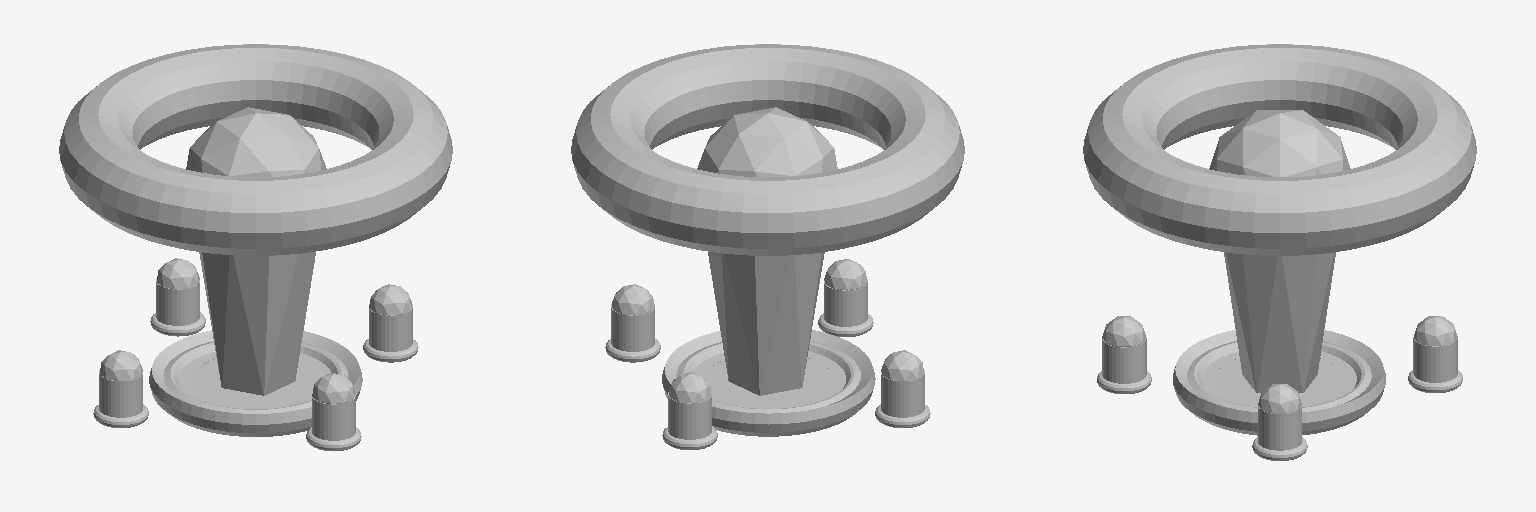
Rendered from altar1.obj.
The picture shows the model from 3 angles: view 1: azimuth 30°, elevation 25°; view 2: azimuth 150°, elevation 25°; view 3: azimuth 270°, elevation 25°; orthographic projection.
Visible parts, largest first — view 1: Torus.005, Icosphere_Icosphere.002, Torus, Icosphere.002_Icosphere.004, Icosphere.001_Icosphere.003, Icosphere.003_Icosphere.005, Icosphere.004_Icosphere.006; view 2: Torus.005, Icosphere_Icosphere.002, Torus, Icosphere.002_Icosphere.004, Icosphere.001_Icosphere.003, Icosphere.003_Icosphere.005, Icosphere.004_Icosphere.006; view 3: Torus.005, Icosphere_Icosphere.002, Torus, Icosphere.002_Icosphere.004, Icosphere.003_Icosphere.005, Icosphere.001_Icosphere.003.
Part boxes in pixels (x1,y1,x2,y2): Torus.005: (59,44,452,255); Icosphere_Icosphere.002: (186,107,326,395); Torus: (149,330,362,436); Icosphere.002_Icosphere.004: (306,373,361,450); Icosphere.001_Icosphere.003: (363,284,418,362); Icosphere.003_Icosphere.005: (150,258,205,336); Icosphere.004_Icosphere.006: (93,350,148,427); Torus.005: (571,44,964,255); Icosphere_Icosphere.002: (697,107,837,395); Torus: (662,330,875,436); Icosphere.002_Icosphere.004: (818,259,873,336); Icosphere.001_Icosphere.003: (605,284,660,362); Icosphere.003_Icosphere.005: (662,372,717,449); Icosphere.004_Icosphere.006: (875,350,930,427); Torus.005: (1083,44,1476,255); Icosphere_Icosphere.002: (1209,110,1350,392); Torus: (1173,330,1385,435); Icosphere.002_Icosphere.004: (1097,316,1151,393); Icosphere.003_Icosphere.005: (1408,316,1462,392); Icosphere.001_Icosphere.003: (1252,384,1307,460).
Size of the model in its own units: 17.73 by 14.17 by 17.73.